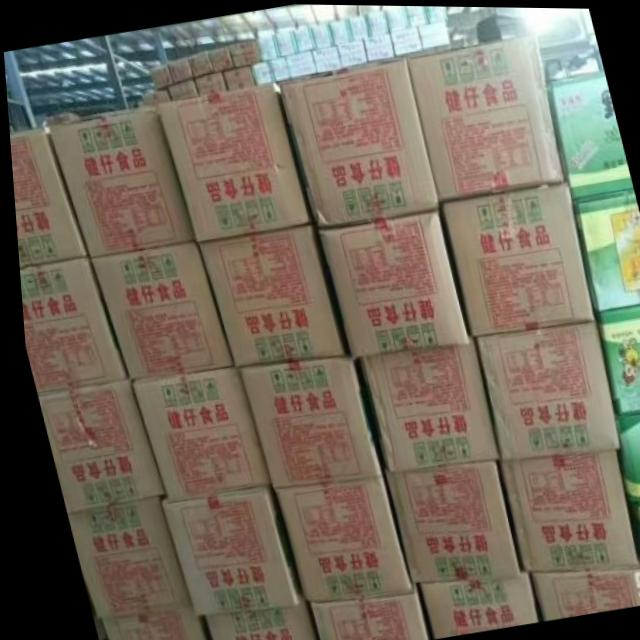box: (275, 55, 437, 229), (406, 31, 563, 200), (155, 81, 312, 239), (435, 180, 590, 335), (314, 207, 465, 358), (45, 103, 190, 256), (192, 221, 343, 365), (467, 319, 614, 461), (346, 333, 493, 471), (230, 353, 379, 487), (85, 239, 229, 376), (124, 365, 265, 501), (155, 484, 293, 616), (375, 457, 512, 588), (265, 474, 404, 601), (31, 378, 157, 513), (491, 447, 628, 570), (15, 253, 123, 393), (59, 496, 182, 616), (8, 125, 84, 266), (549, 67, 630, 199), (570, 185, 640, 309), (520, 546, 640, 618), (410, 570, 529, 636), (297, 581, 422, 640), (589, 301, 640, 414), (194, 596, 307, 640), (91, 608, 201, 640), (609, 410, 640, 505), (248, 54, 288, 83), (388, 26, 422, 55), (623, 507, 640, 564), (227, 38, 260, 66), (361, 33, 394, 61), (417, 20, 450, 48), (283, 49, 316, 76), (311, 42, 341, 71), (335, 38, 367, 65), (221, 63, 254, 89), (194, 68, 226, 94), (166, 54, 192, 83), (186, 48, 212, 76), (386, 5, 411, 33), (167, 78, 197, 99), (255, 33, 279, 59), (274, 28, 298, 54), (348, 12, 370, 39), (206, 47, 232, 69), (404, 5, 430, 27), (310, 22, 332, 47), (366, 11, 388, 36), (294, 25, 315, 51), (142, 84, 169, 104), (149, 63, 171, 86), (329, 20, 352, 42), (424, 5, 450, 21)
